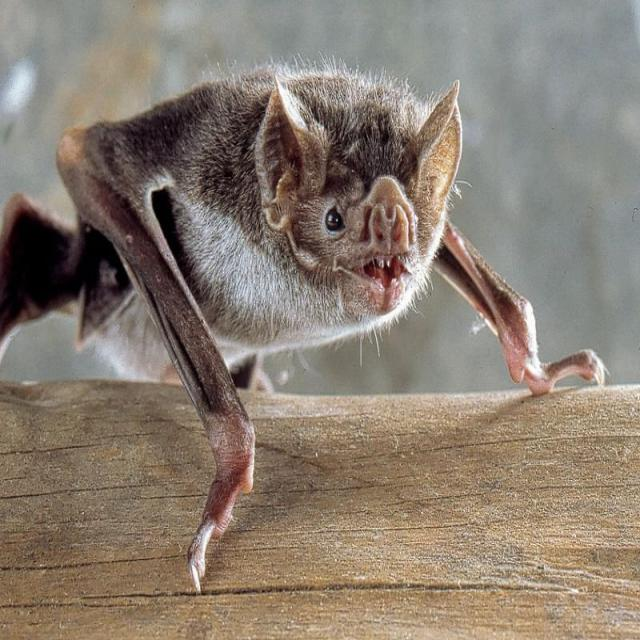Bat: (47, 52, 541, 570)
